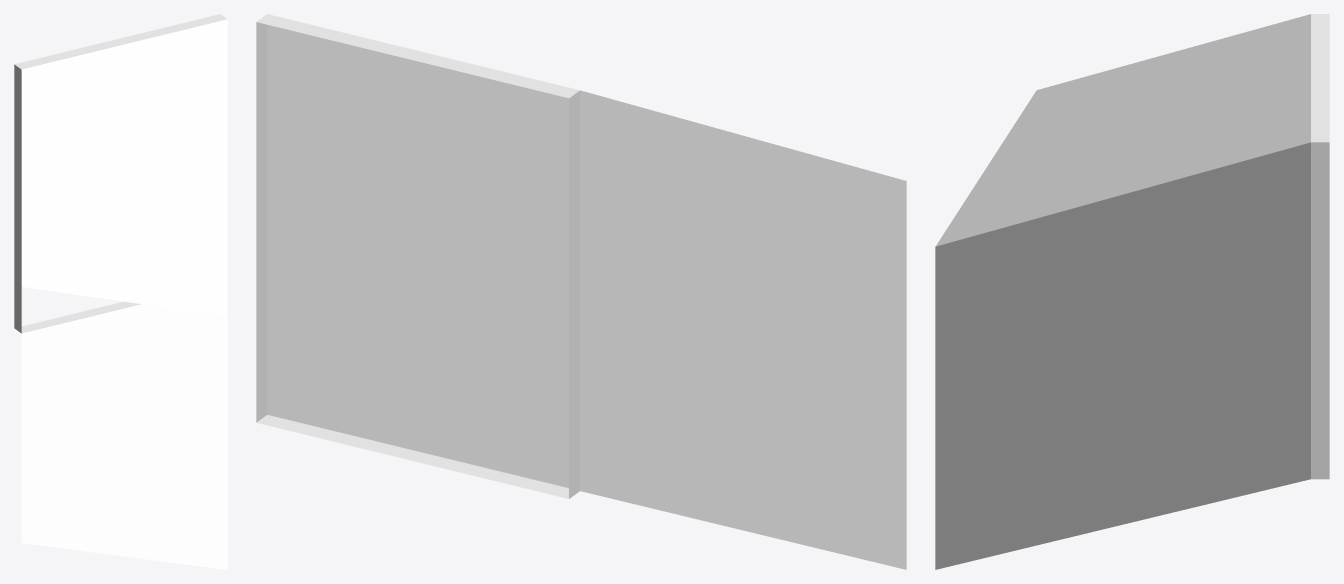
File: set_add_effect_l_01_01.fbx
3 renders of one model, left to right at view 1: azimuth 30°, elevation 25°; view 2: azimuth 150°, elevation 25°; view 3: azimuth 270°, elevation 25°, orthographic. The views are drawn at different scales.
Visible parts, largest first — view 1: set_add_effect_l_01_01; view 2: set_add_effect_l_01_01; view 3: set_add_effect_l_01_01.
Boxes of the visible parts, box(x1,y1,x2,y2) form: set_add_effect_l_01_01: box(14, 14, 227, 569); set_add_effect_l_01_01: box(256, 14, 906, 569); set_add_effect_l_01_01: box(935, 14, 1329, 569).
Bounding box in the file's own units: 132 × 164 × 113.
